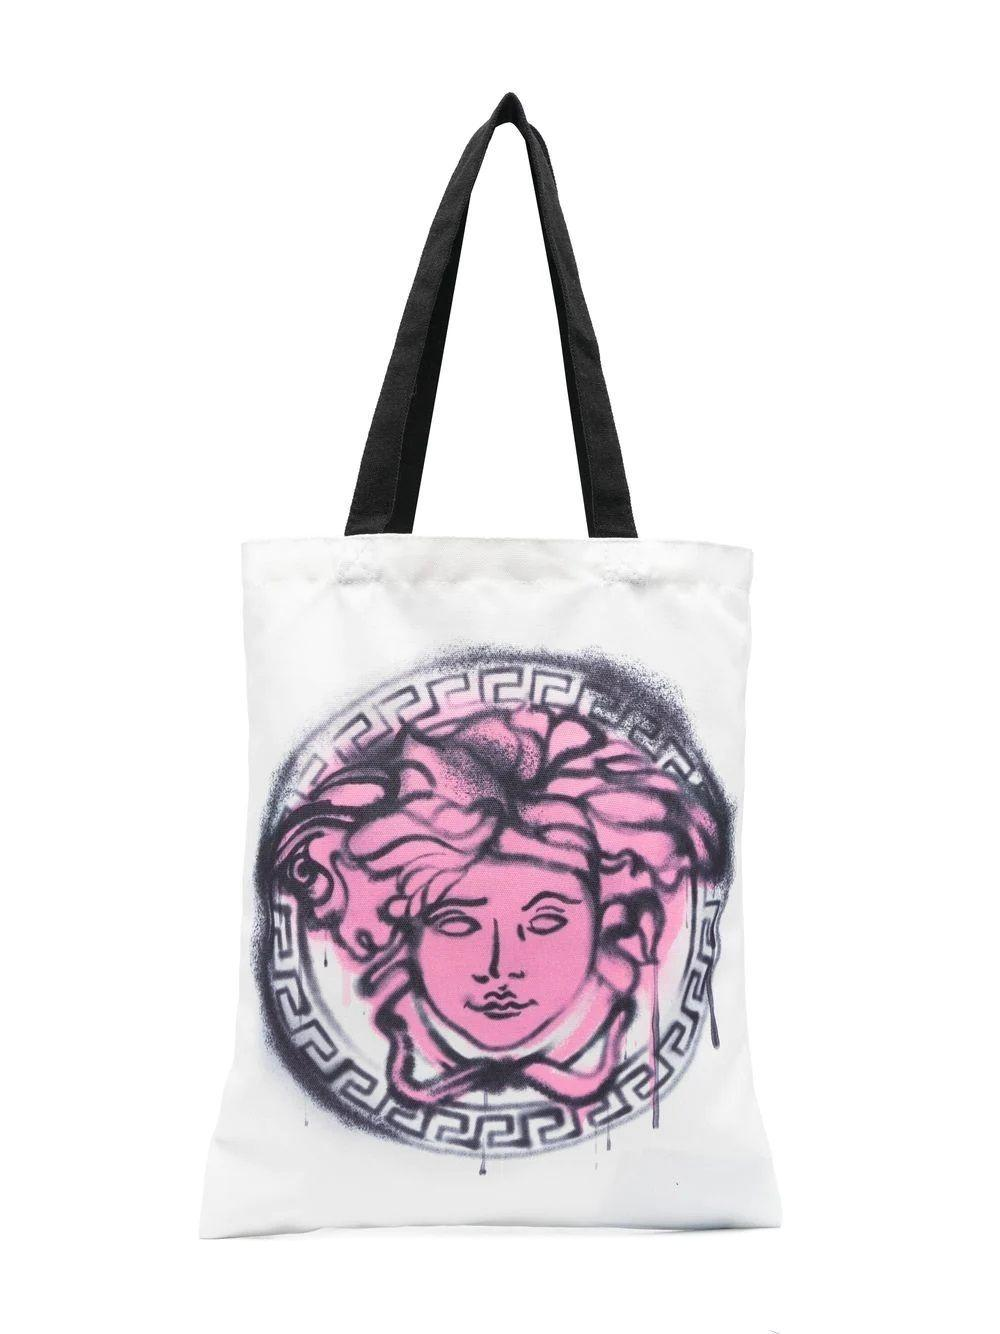VERSACE: (248, 647, 737, 1158)
